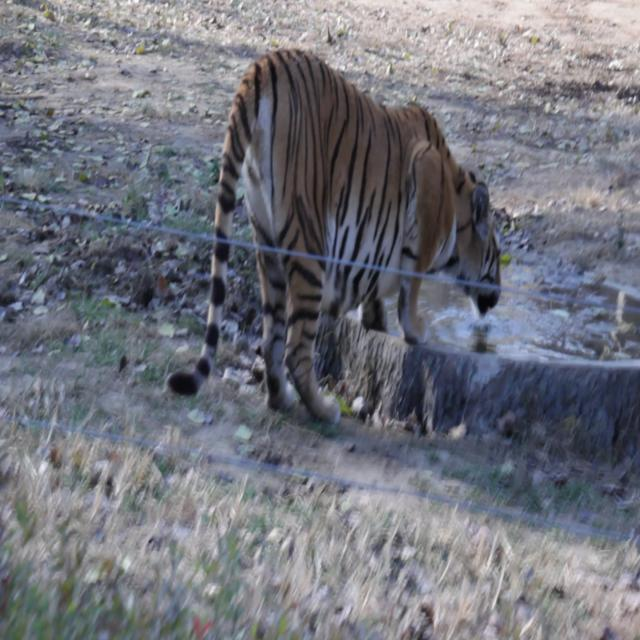Tiger: (150, 43, 516, 456)
